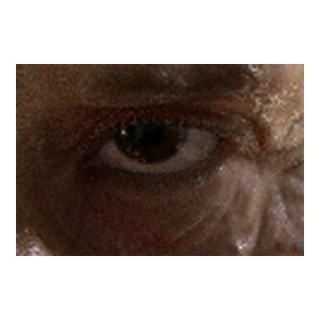pupil: (133, 109, 165, 141)
